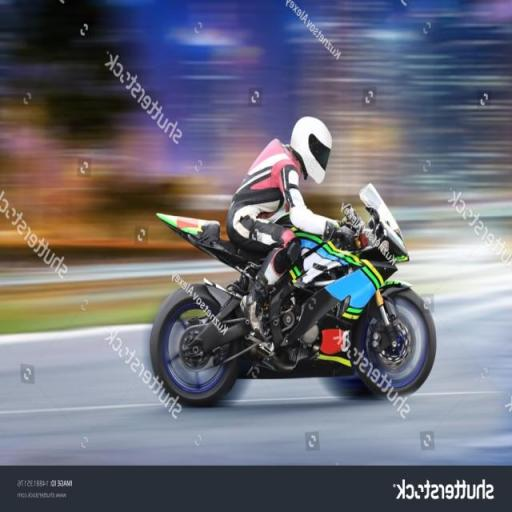Helmet: (291, 117, 331, 183)
Motor: (148, 200, 438, 422)
